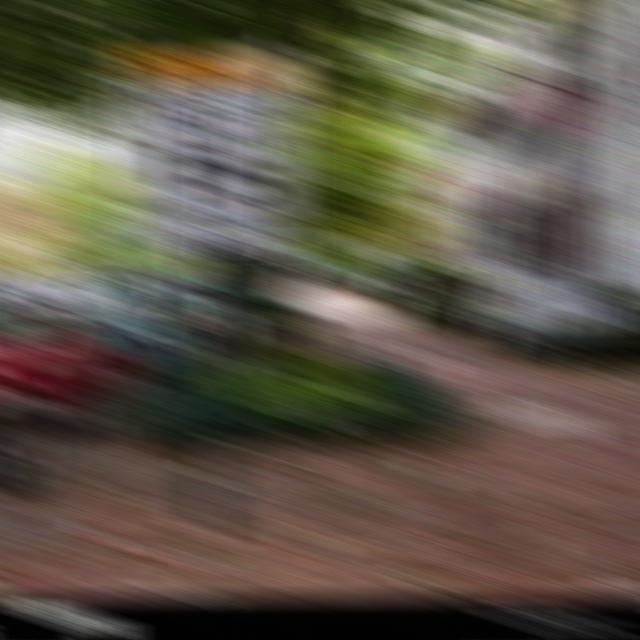speedLimit15: (121, 80, 299, 219)
